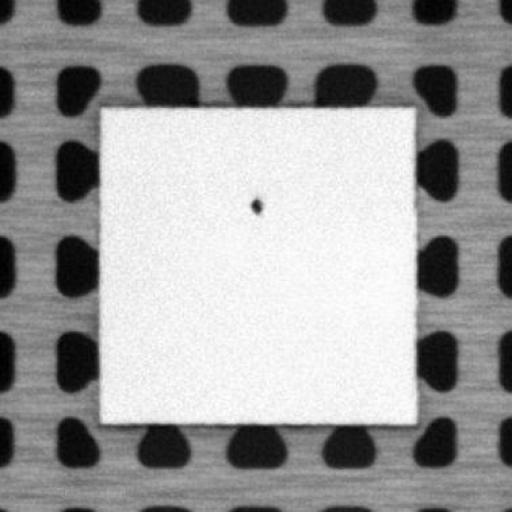DIE_INK: (248, 193, 263, 215)
